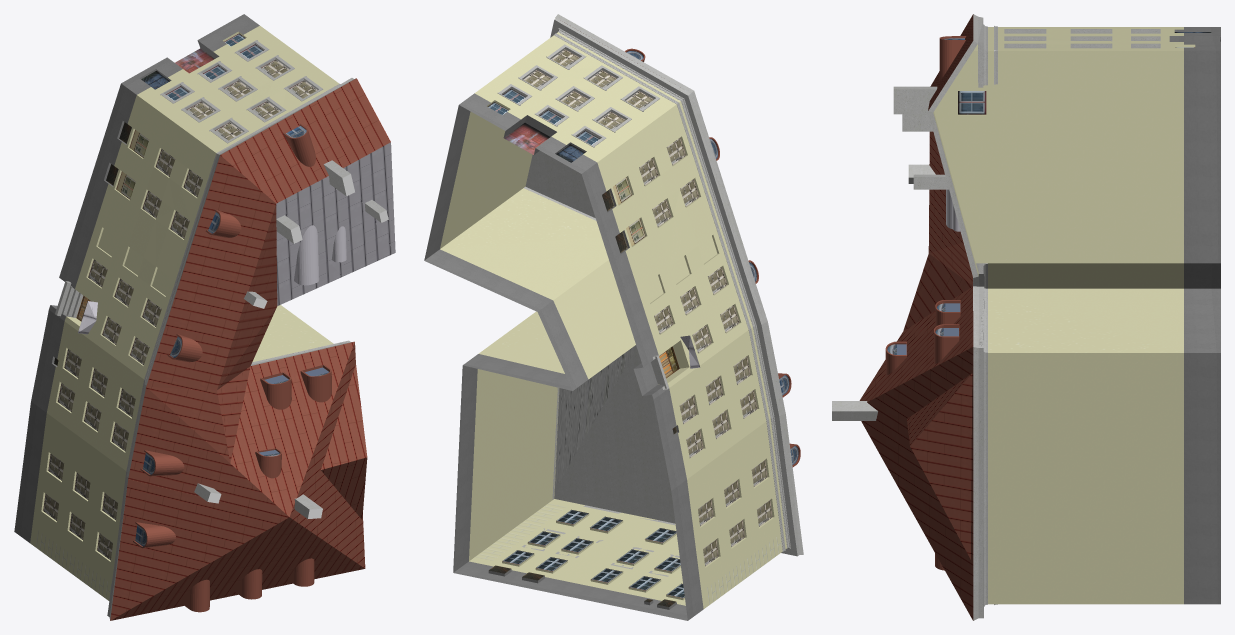
File: Rataskaevu9.obj
3 views of the same model, side by side, from view 1: azimuth 30°, elevation 25°; view 2: azimuth 150°, elevation 25°; view 3: azimuth 270°, elevation 25° (orthographic). The views are drawn at different scales.
Visible parts, largest first — view 1: _6_pivot; view 2: _6_pivot; view 3: _6_pivot.
Boxes of the visible parts, left/top/right/bottom form: _6_pivot: left=14, top=14, right=395, bottom=620; _6_pivot: left=424, top=14, right=803, bottom=620; _6_pivot: left=832, top=14, right=1220, bottom=620.
Size of the model in its own units: 22.67 by 37.4 by 22.91.
